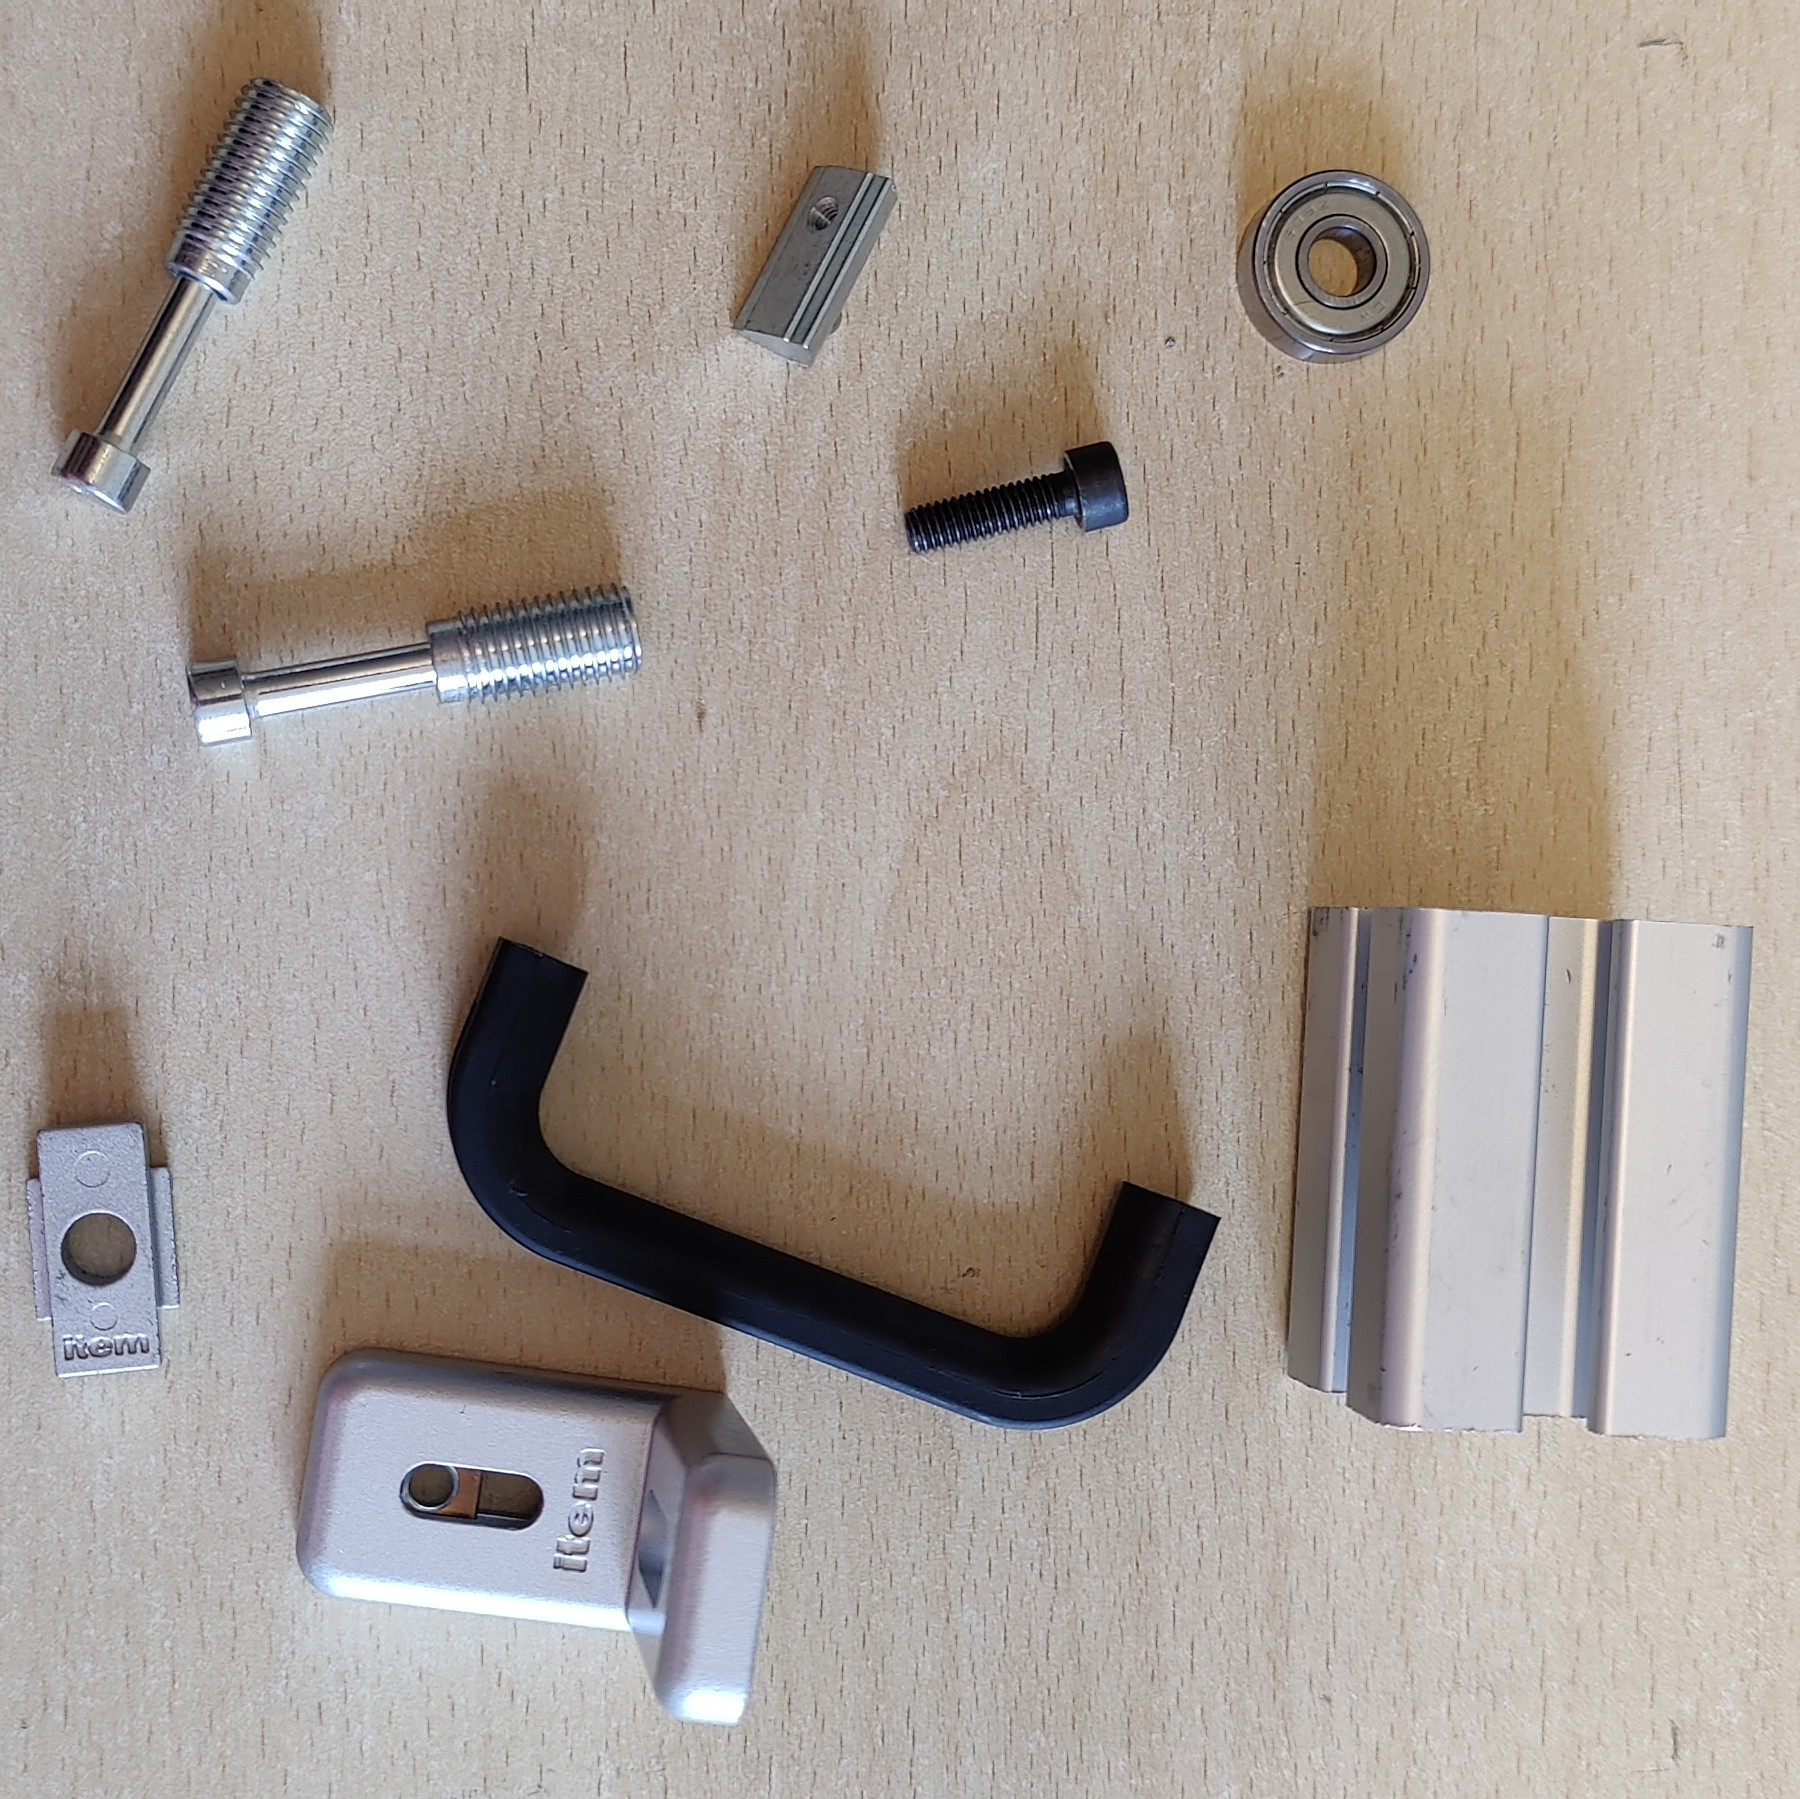Aluminium Extension: (1283, 903, 1757, 1442)
Ball Bearing: (1232, 165, 1433, 367)
Multiwinkel: (295, 1344, 779, 1731)
Pull Handle: (441, 932, 1220, 1433)
Shoulder Socket Head Cap Screw: (48, 72, 334, 517), (183, 577, 646, 756)
Socket Head Cap Screw: (899, 437, 1133, 554)
T Nut Square: (25, 1117, 183, 1382)
T Spring Nut: (731, 163, 901, 371)
